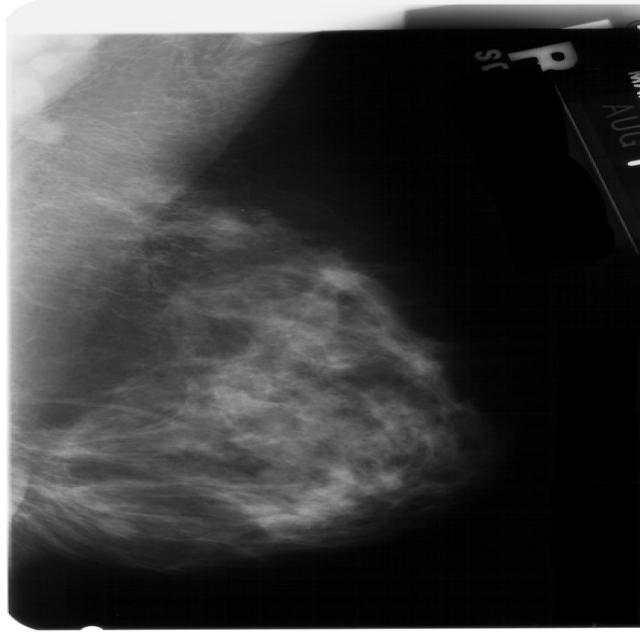tumour: (92, 517, 135, 539)
